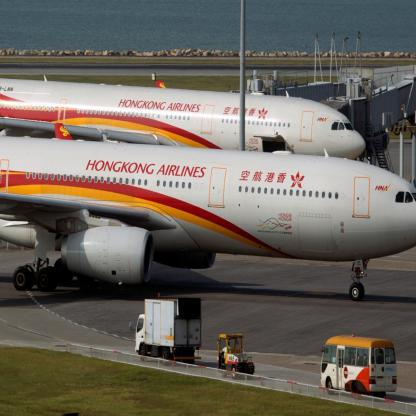CIV_Plane: (0, 125, 415, 329), (0, 74, 368, 164)
